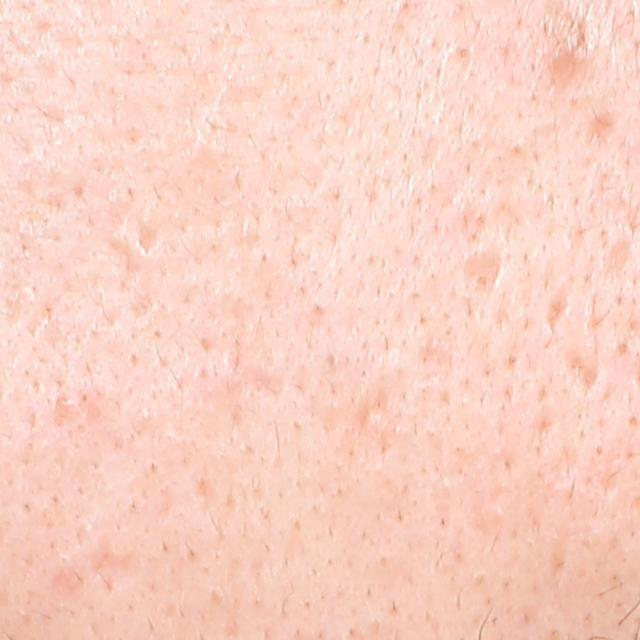atrophic_scar: (542, 51, 596, 98), (87, 539, 150, 579), (458, 251, 507, 297), (598, 234, 637, 280), (532, 294, 577, 331), (563, 352, 603, 392), (581, 113, 615, 153), (135, 217, 159, 256)
comedo: (360, 410, 388, 432)
